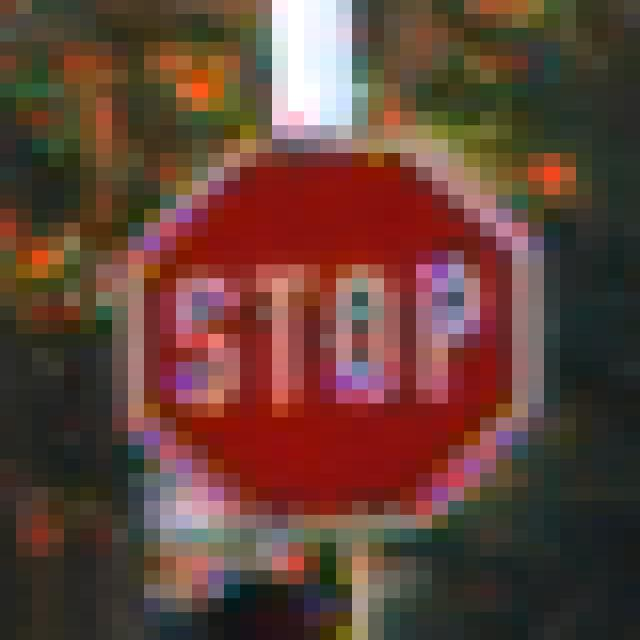STOP: (81, 85, 561, 572)
